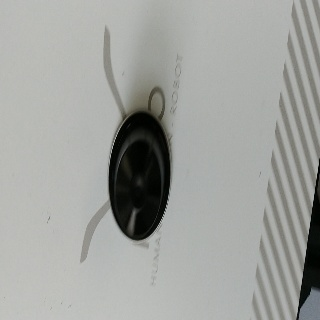capsule_10: (107, 108, 171, 242)
